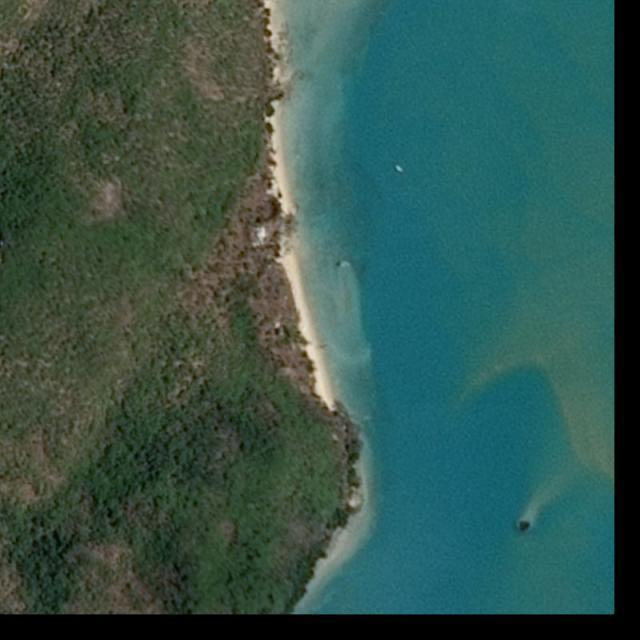ship: (394, 162, 404, 174)
